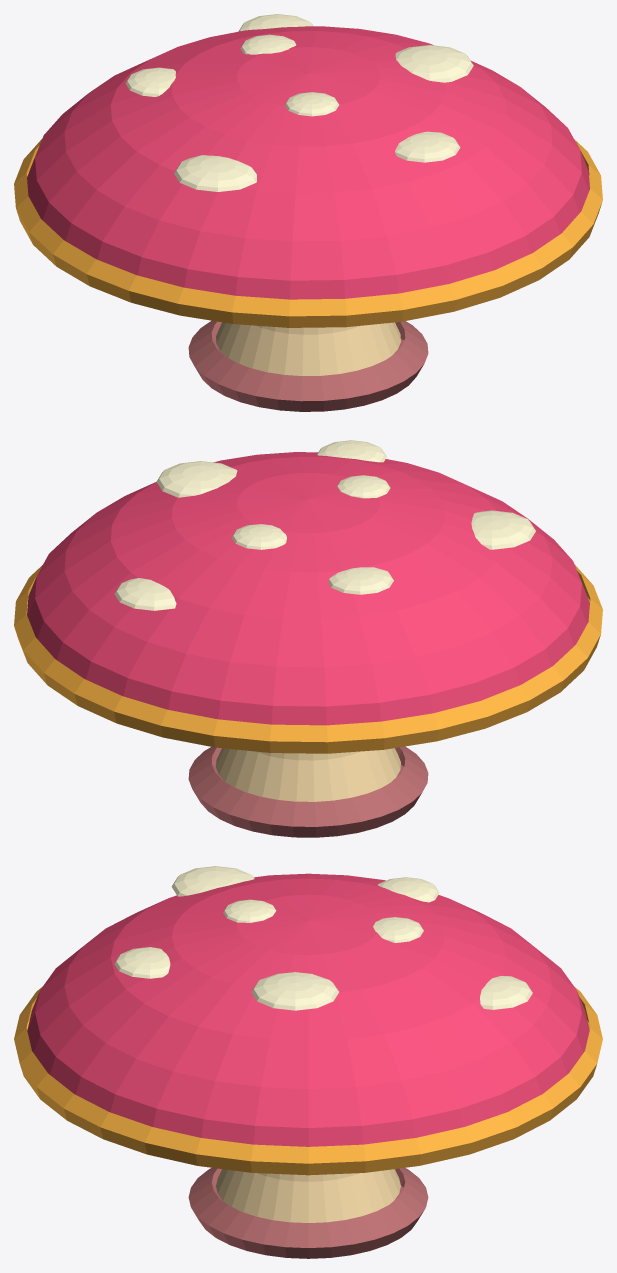
File: mushroom_trampoline.obj
3 renders of one model, top to bottom at view 1: azimuth 30°, elevation 25°; view 2: azimuth 150°, elevation 25°; view 3: azimuth 270°, elevation 25°, orthographic.
Parts seen in each view (by area): view 1: mushroom_trampoline; view 2: mushroom_trampoline; view 3: mushroom_trampoline.
Boxes of the visible parts, bbox=[...] form: mushroom_trampoline: bbox=[14, 14, 602, 411]; mushroom_trampoline: bbox=[14, 440, 602, 837]; mushroom_trampoline: bbox=[14, 866, 602, 1258].
Size of the model in its own units: 2.8 by 1.53 by 2.8.
